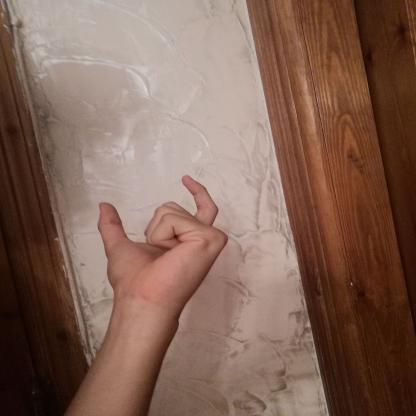NOON: (81, 166, 243, 324)
